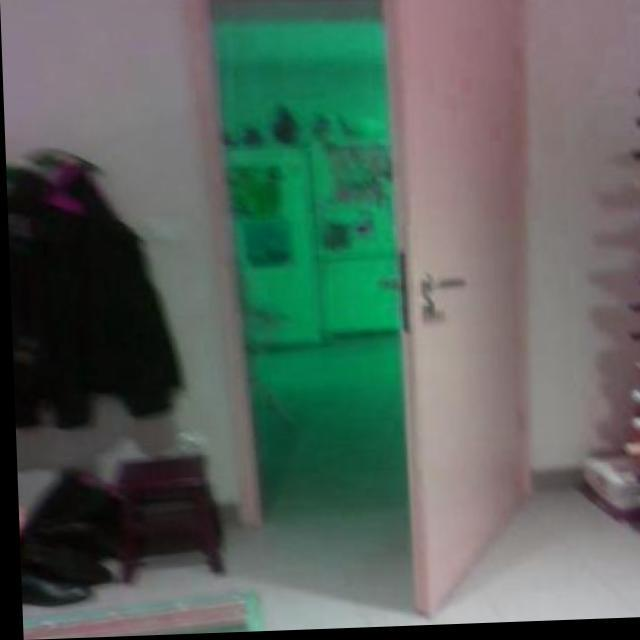door_handle: (416, 272, 474, 300)
